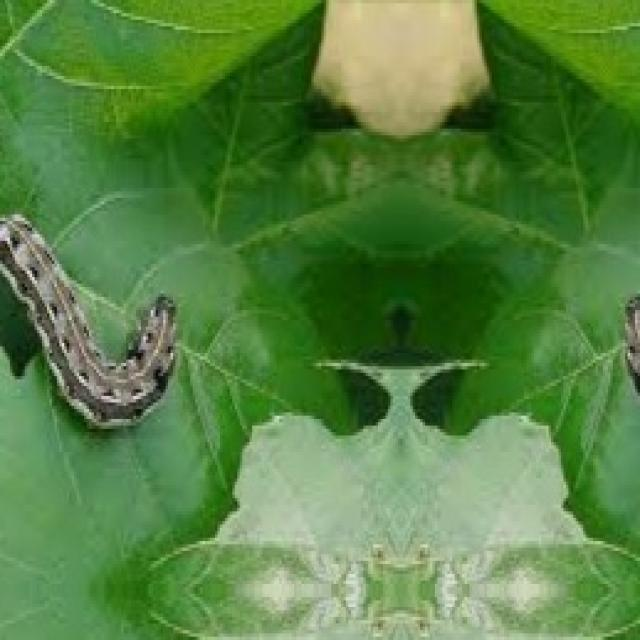armyworm: (0, 208, 178, 432)
